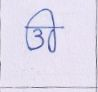i_matra: (40, 7, 61, 53)
